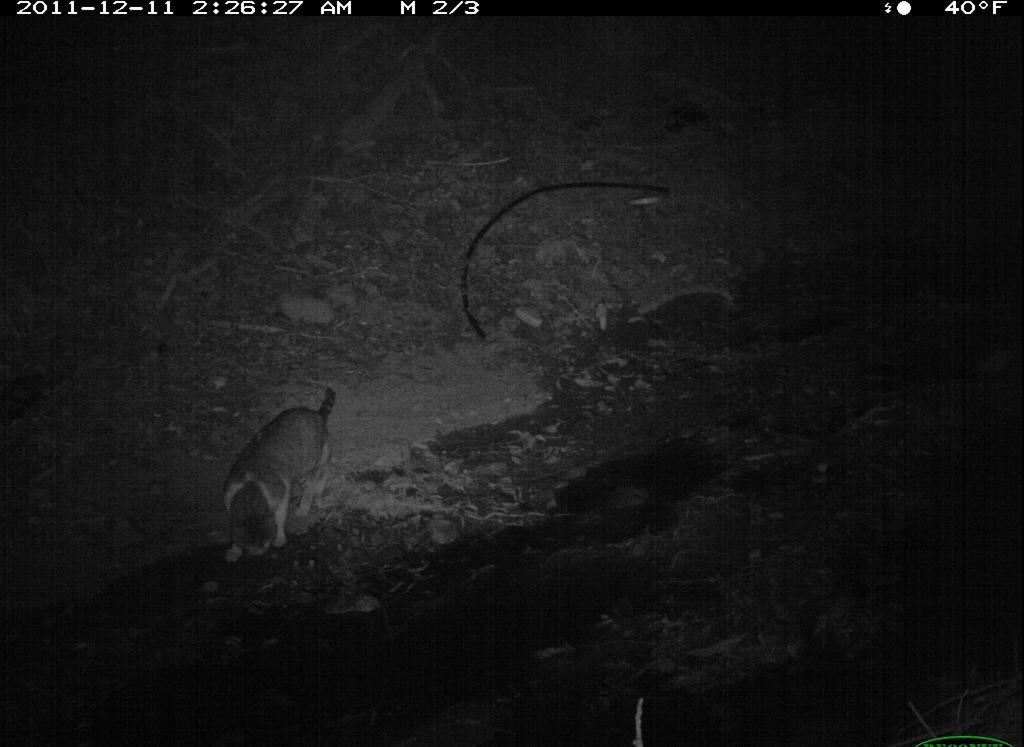cat: (200, 374, 363, 575)
